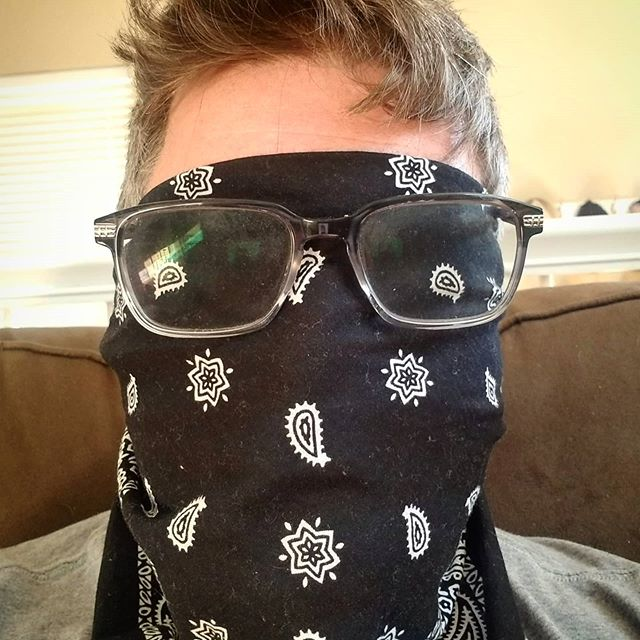homemade: (87, 179, 505, 635)
